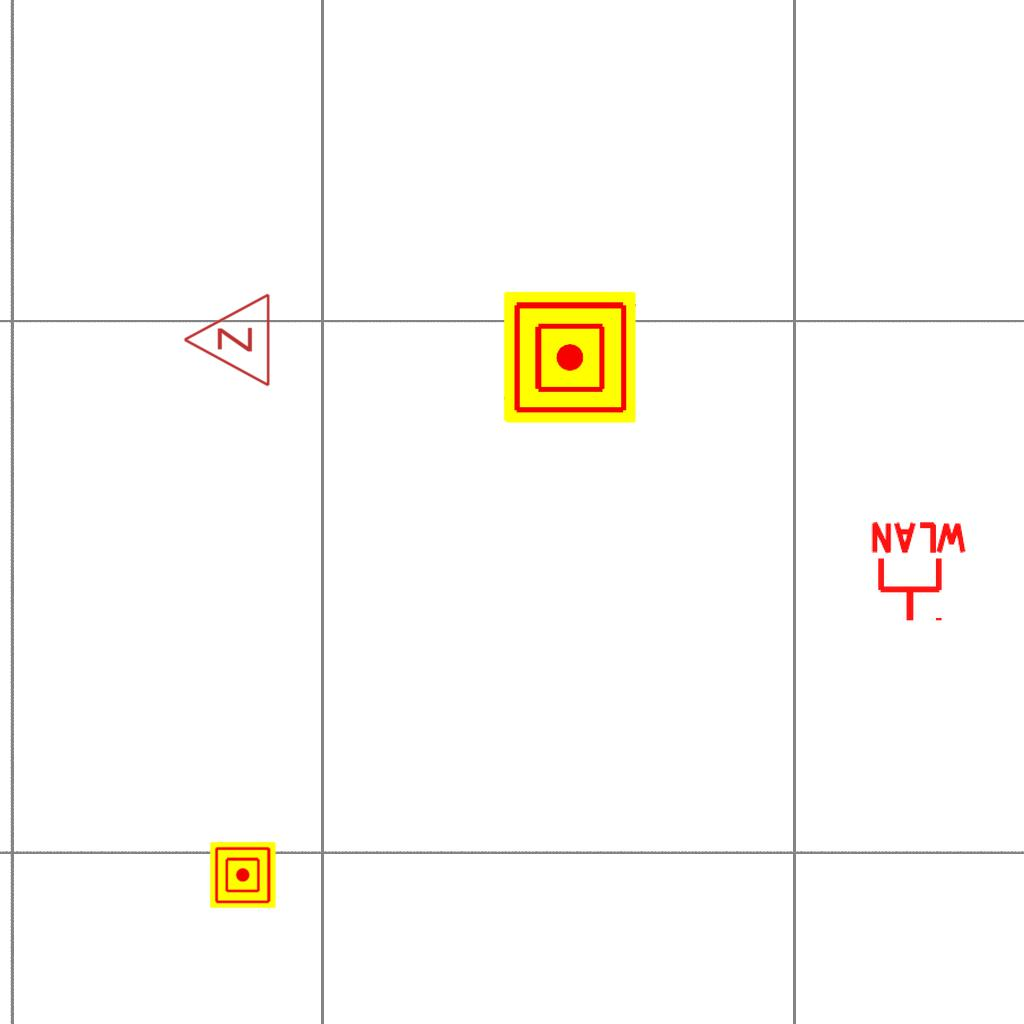NAM-Nichtautomatischer_Melder: (504, 291, 636, 423), (210, 842, 276, 908)
WLAN: (867, 520, 971, 625)
Zimmersignalleuchte: (177, 292, 277, 390)
